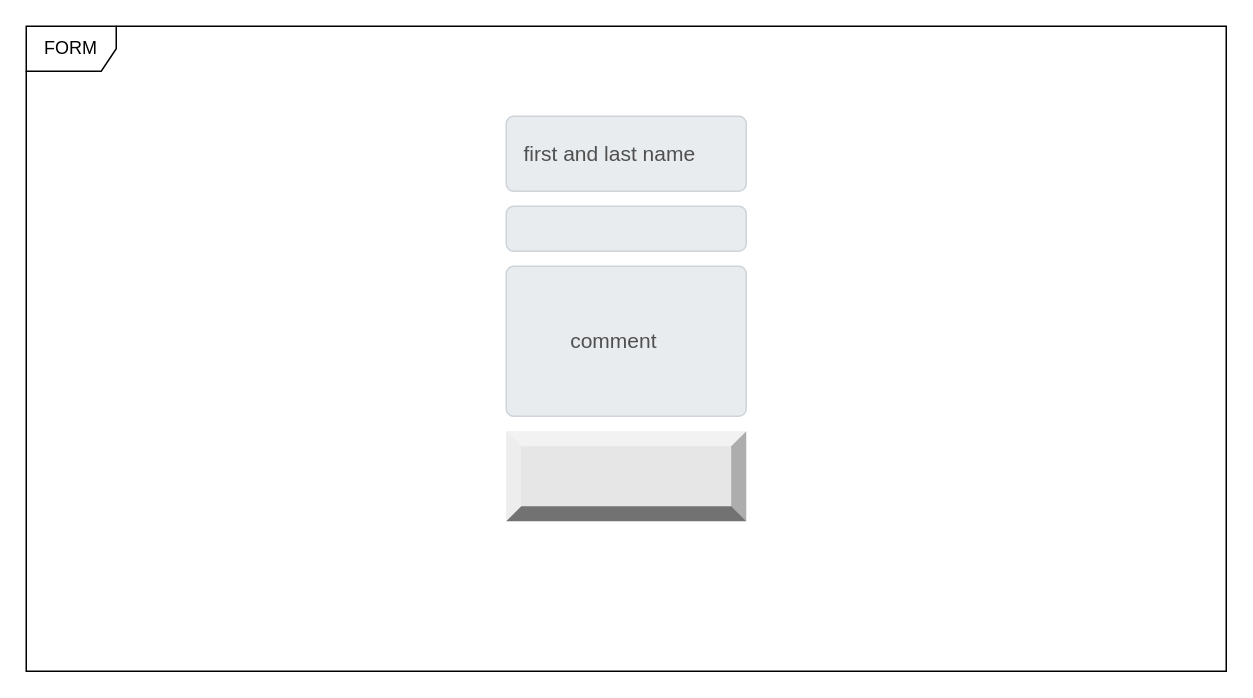
This 1253x698 diagram has some shape labels left out. The shapes that lost their labels are listed below. From the top down, each one's centre as x and y in pixels, then its label:
[625,228]: book title
[626,475]: Puplicate
